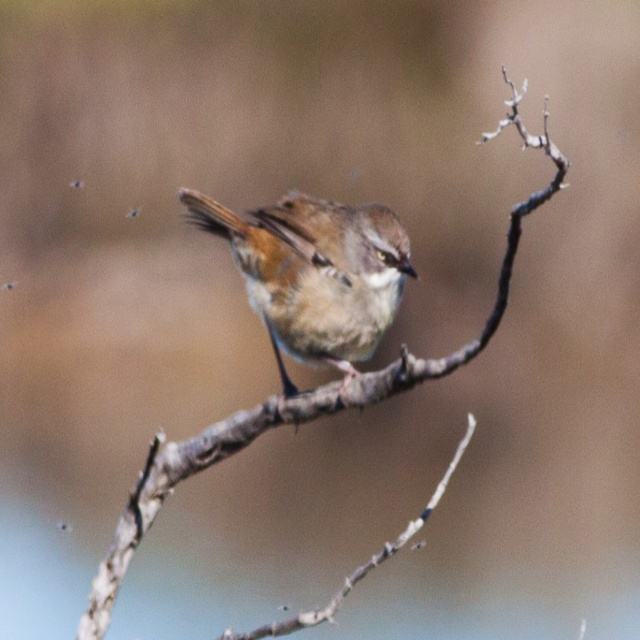Sparrow: (177, 191, 421, 432)
